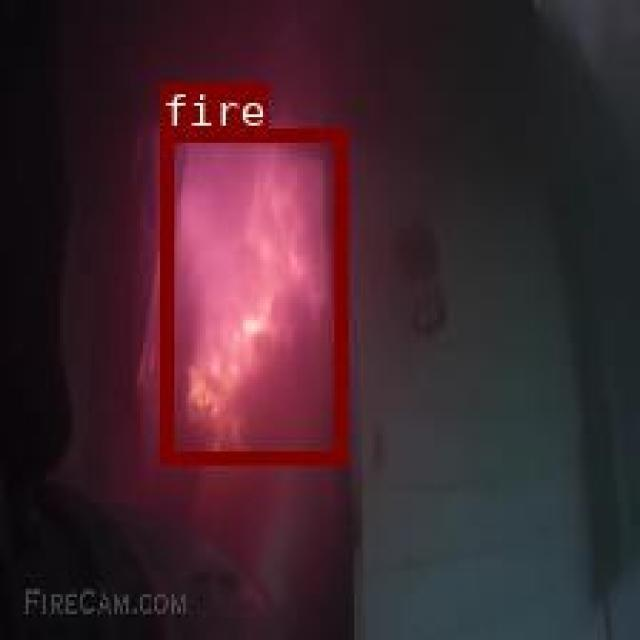fire: (158, 127, 345, 462)
